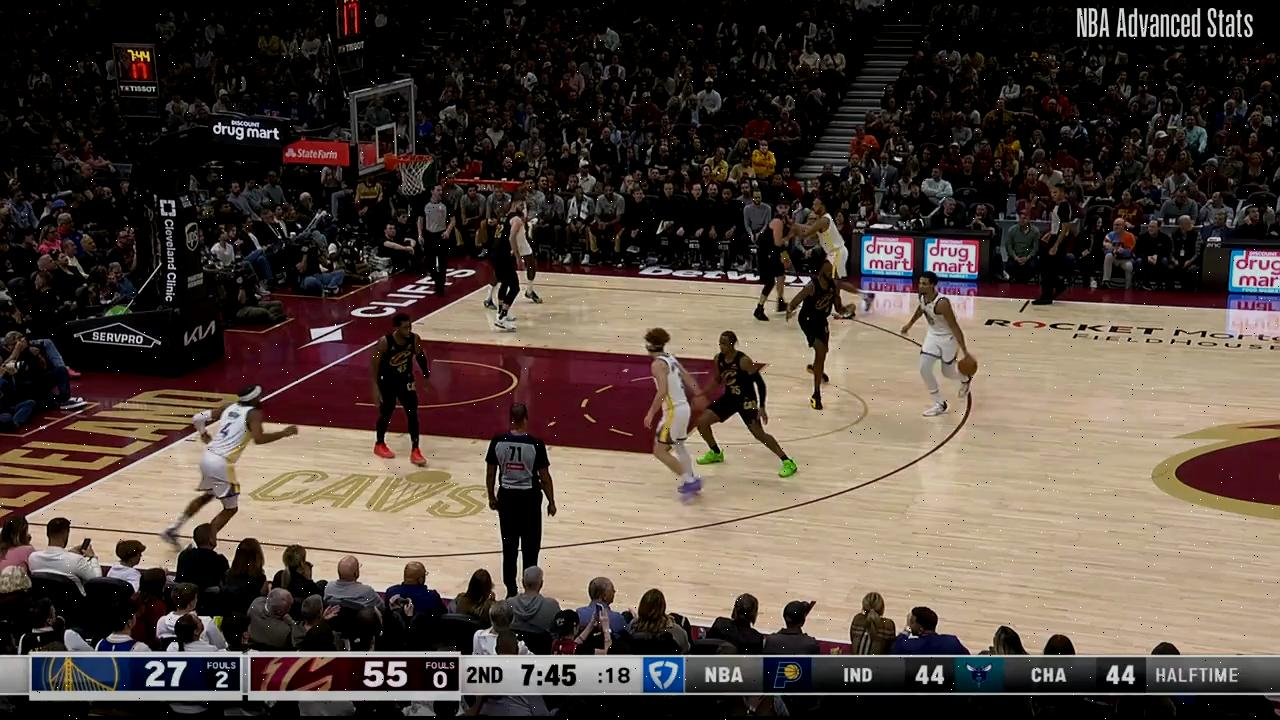basketball: (954, 353, 980, 383)
